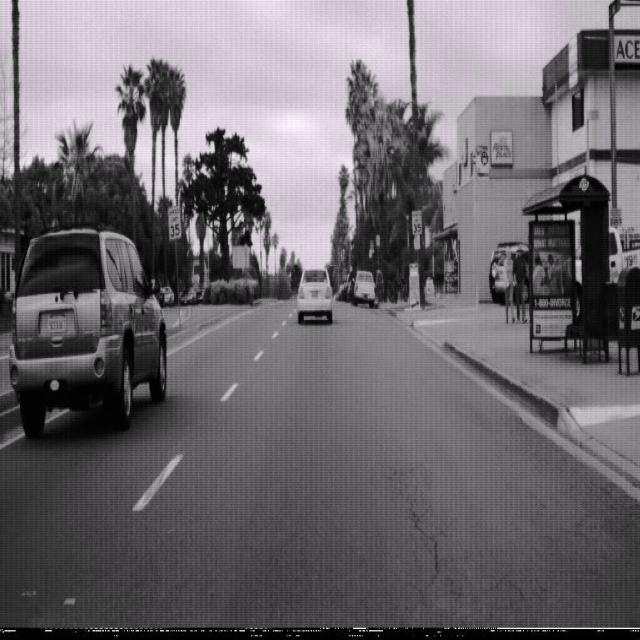speedLimit35: (167, 204, 182, 242), (410, 208, 422, 235)
